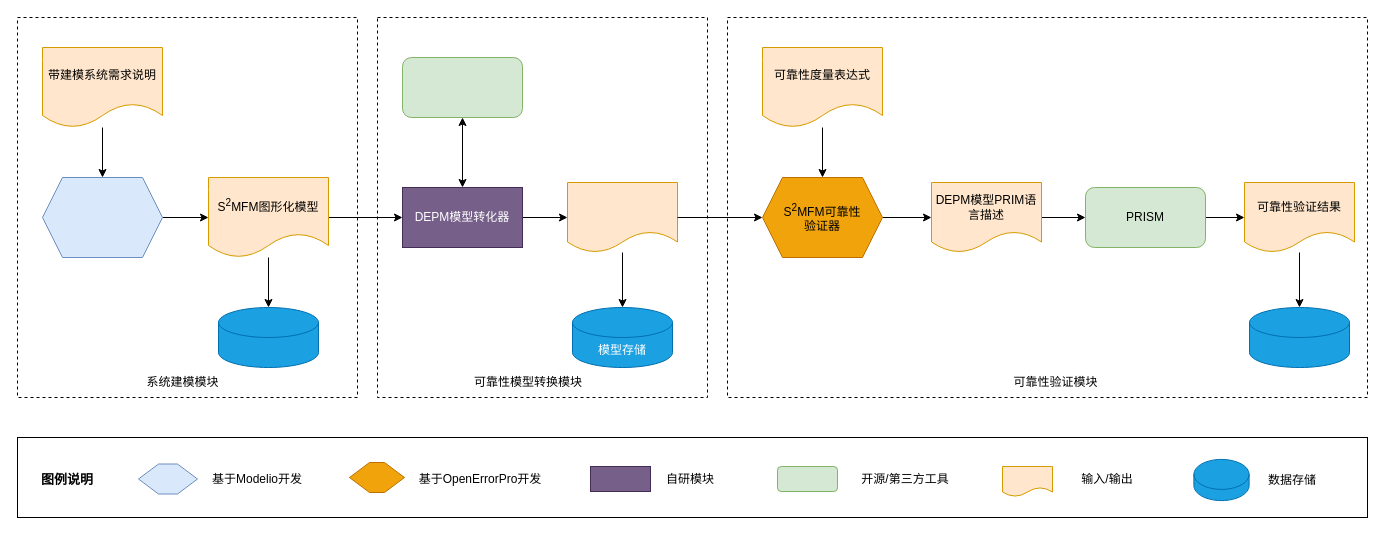
The diagram is 1385 pixels wide and 535 high, and some of its shapes have lost their labels. Each missing label, with the centre of its shape:
AADL Inspector: [462,87]
DEPM模型: [622,217]
S 2 MFM模型 编辑器: [102,217]
图形模型库: [268,337]
验证结果: [1299,337]
